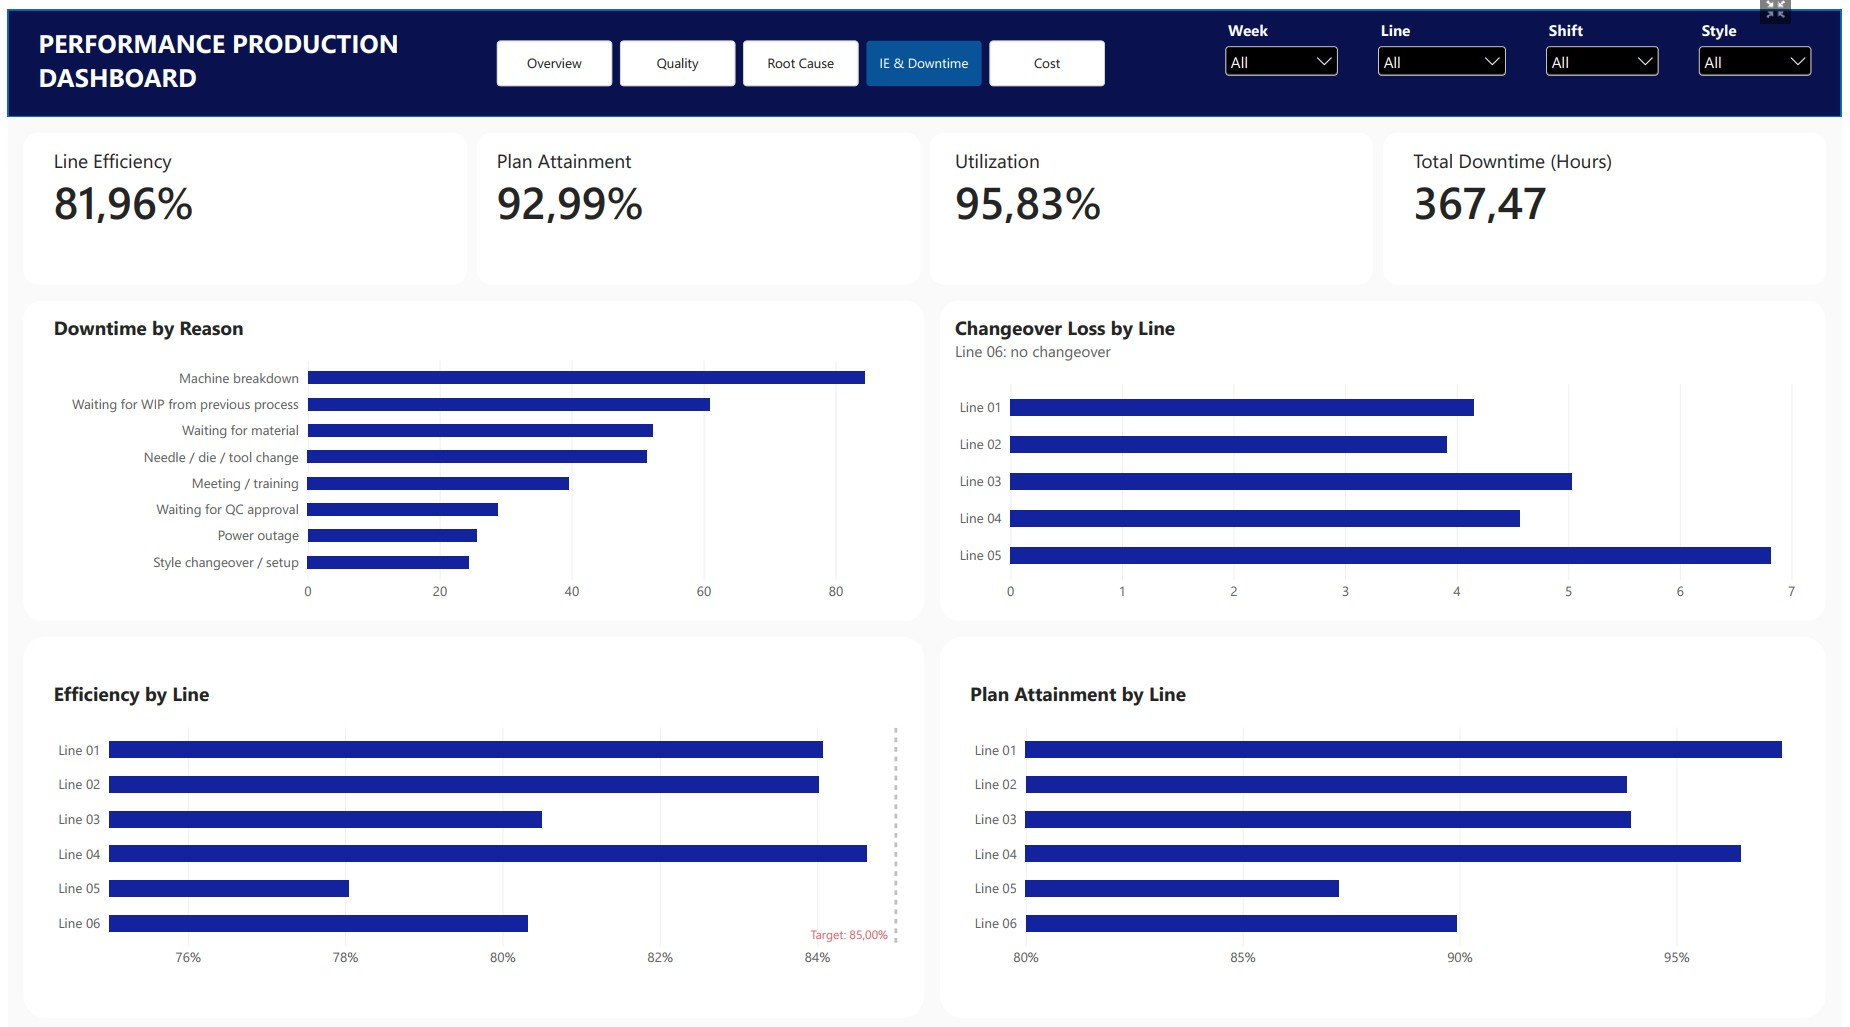

The dashboard page shown, as its layout file describes it:
{"tool":"powerbi","page":{"name":"IE & Downtime","canvas":[1920,1080],"ordinal":3},"visuals":[{"type":"shape","box":[0,0,1920,112],"z":0},{"type":"shape","box":[16,128,465,160],"z":1000},{"type":"shape","box":[16,304,944,336],"z":2000},{"type":"shape","box":[976,304,928,336],"z":3000},{"type":"shape","box":[976,656,928,400],"z":4000},{"type":"cardVisual","title":"Line Efficiency","fields":{"Data":["_Measures.Efficiency"]},"box":[48,144,304,80],"z":5000},{"type":"shape","box":[16,656,944,400],"z":6000},{"type":"shape","box":[490.7,128,465,160],"z":7000},{"type":"shape","box":[965.3,128,465,160],"z":8000},{"type":"shape","box":[1440,128,465,160],"z":9000},{"type":"cardVisual","title":"Plan Attainment","fields":{"Data":["_Measures.Plan Attainment"]},"box":[512,144,304,80],"z":10000},{"type":"cardVisual","title":"Utilization","fields":{"Data":["_Measures.Utilization"]},"box":[992,144,304,80],"z":11000},{"type":"cardVisual","title":"Total Downtime (Hours)","fields":{"Data":["_Measures.Downtime Hours"]},"box":[1472,144,304,80],"z":12000},{"type":"barChart","title":"Downtime by Reason","fields":{"Category":["Dim_DowntimeReason.Reason_EN"],"Y":["_Measures.Downtime Hours"]},"box":[32,304,928,336],"z":13000},{"type":"barChart","title":"Changeover Loss by Line","fields":{"Category":["Dim_Line.Line_Name"],"Y":["_Measures.Changeover Loss Hours"]},"box":[976,304,912,336],"z":14000},{"type":"barChart","title":"Efficiency by Line","fields":{"Category":["Dim_Line.Line_Name"],"Y":["_Measures.Efficiency"]},"box":[32,688,928,336],"z":15000},{"type":"barChart","title":"Plan Attainment by Line","fields":{"Category":["Dim_Line.Line_Name"],"Y":["_Measures.Plan Attainment"]},"box":[992,688,896,336],"z":16000},{"type":"textbox","box":[32,16,480,80],"z":17000},{"type":"pageNavigator","box":[512,32,640,48],"z":18000},{"type":"slicer","fields":{"Values":["Dim_Calendar.ISO_Week"]},"box":[1270.4,9.6,128,80],"z":19000},{"type":"slicer","fields":{"Values":["Dim_Line.Line_Name"]},"box":[1430.4,9.6,144,80],"z":20000},{"type":"slicer","fields":{"Values":["Fact_Production.Shift"]},"box":[1606.4,9.6,128,80],"z":21000},{"type":"slicer","fields":{"Values":["Fact_Production.Style_ID"]},"box":[1766.4,9.6,128,80],"z":22000}]}

Visuals, with their boxes in screenshot pixels (x1, y1, x2, y2), scaled from the page's 1920x1080 canvas onto the 1850x1027 screenshot:
shape: rect(0, 0, 1849, 107)
shape: rect(15, 122, 463, 274)
shape: rect(15, 289, 925, 609)
shape: rect(940, 289, 1835, 609)
shape: rect(940, 624, 1835, 1004)
"Line Efficiency" cardVisual: rect(46, 137, 339, 213)
shape: rect(15, 624, 925, 1004)
shape: rect(473, 122, 921, 274)
shape: rect(930, 122, 1378, 274)
shape: rect(1388, 122, 1836, 274)
"Plan Attainment" cardVisual: rect(493, 137, 786, 213)
"Utilization" cardVisual: rect(956, 137, 1249, 213)
"Total Downtime (Hours)" cardVisual: rect(1418, 137, 1711, 213)
"Downtime by Reason" barChart: rect(31, 289, 925, 609)
"Changeover Loss by Line" barChart: rect(940, 289, 1819, 609)
"Efficiency by Line" barChart: rect(31, 654, 925, 974)
"Plan Attainment by Line" barChart: rect(956, 654, 1819, 974)
textbox: rect(31, 15, 493, 91)
pageNavigator: rect(493, 30, 1110, 76)
slicer - Dim_Calendar.ISO_Week: rect(1224, 9, 1347, 85)
slicer - Dim_Line.Line_Name: rect(1378, 9, 1517, 85)
slicer - Fact_Production.Shift: rect(1548, 9, 1671, 85)
slicer - Fact_Production.Style_ID: rect(1702, 9, 1825, 85)
